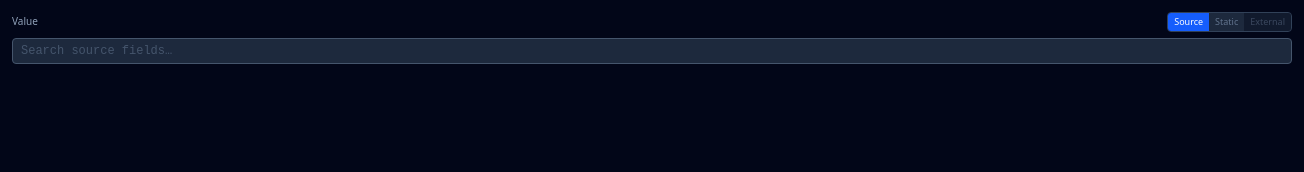
Test: ValueEntryEditor — FS-052 T-05 custom source dropdown › shows test value when PreviewContext has sourceData
Click the field with test id "value-source-0-value".
click(652, 50)  # box [12, 38, 1292, 64]
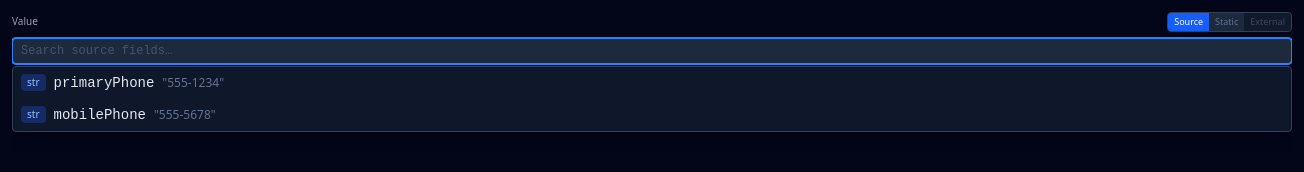
Result: the text "\"555-1234\"" is shown at [162, 74, 224, 90]
